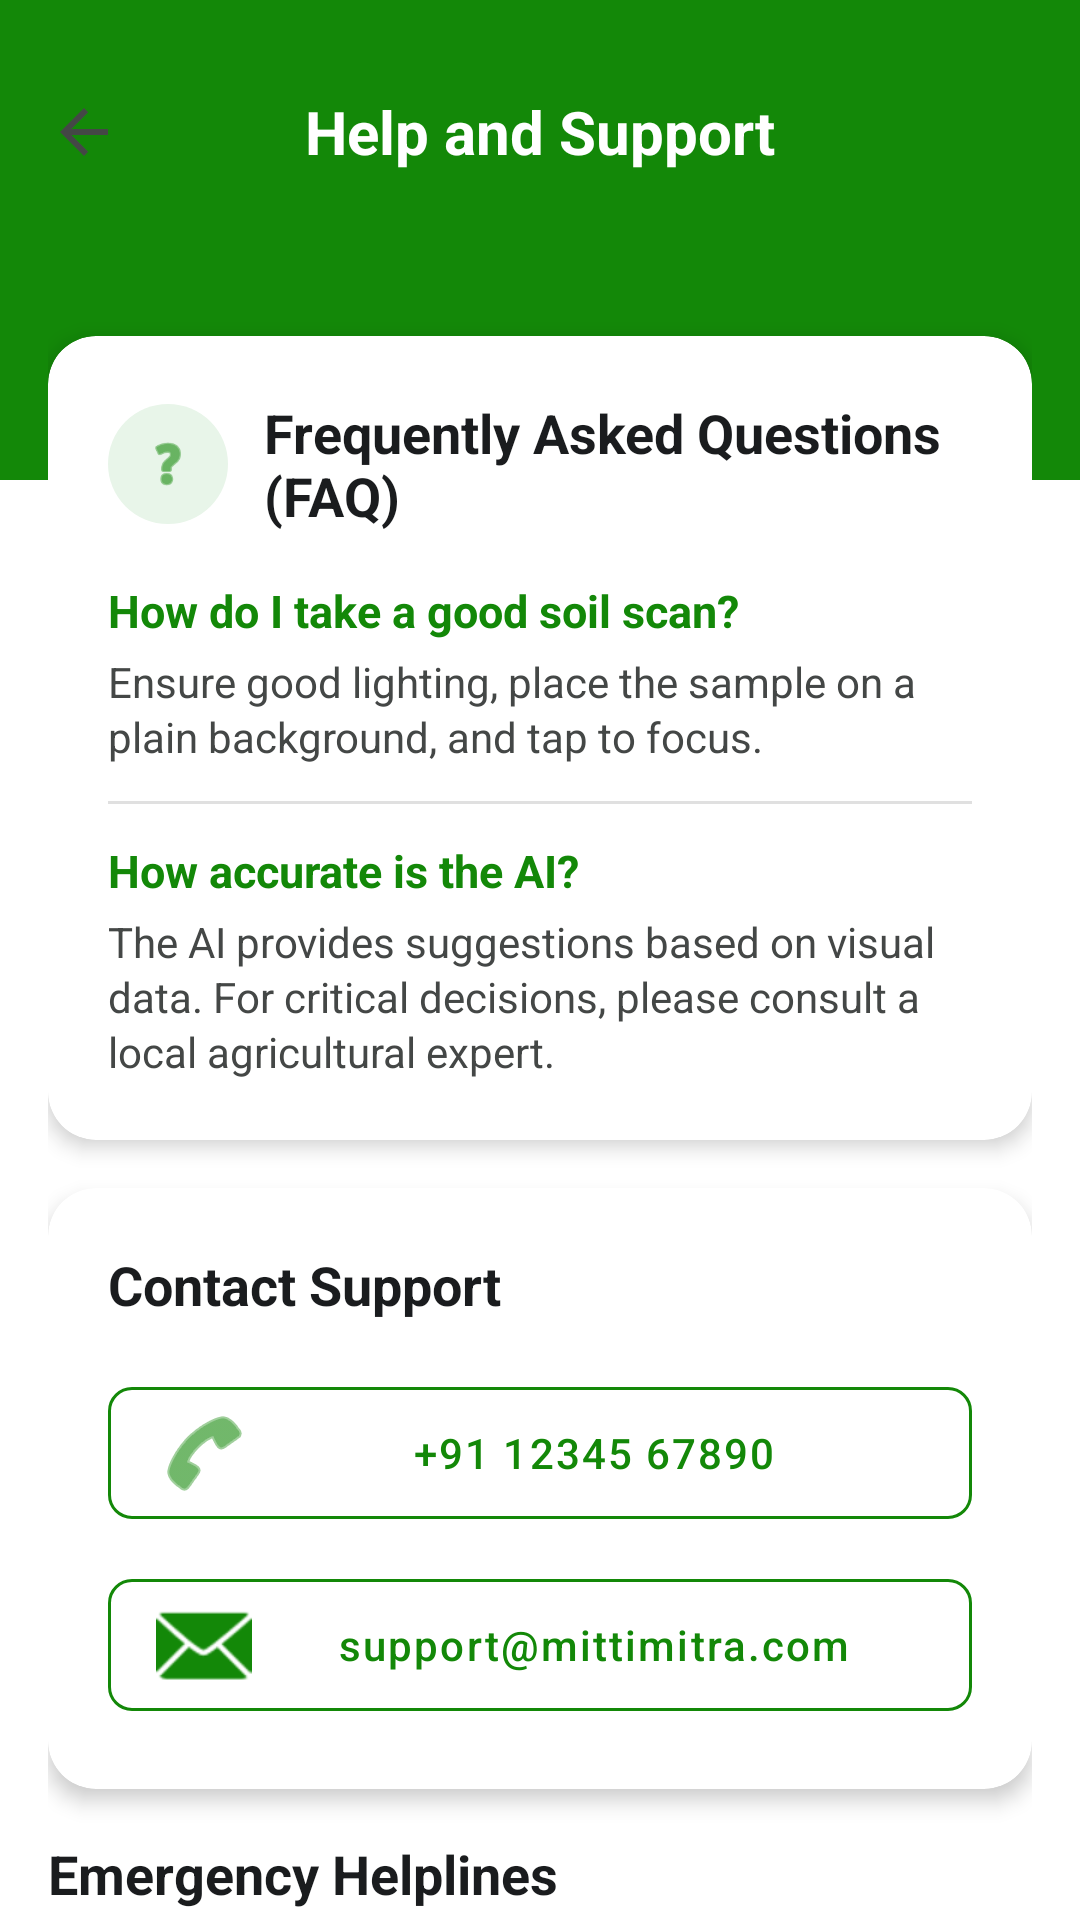

Icon bounding boxes for this 1080x1920 phone screenshot, format [x1,y1,x2,y2]:
help: [155,442,181,486]
